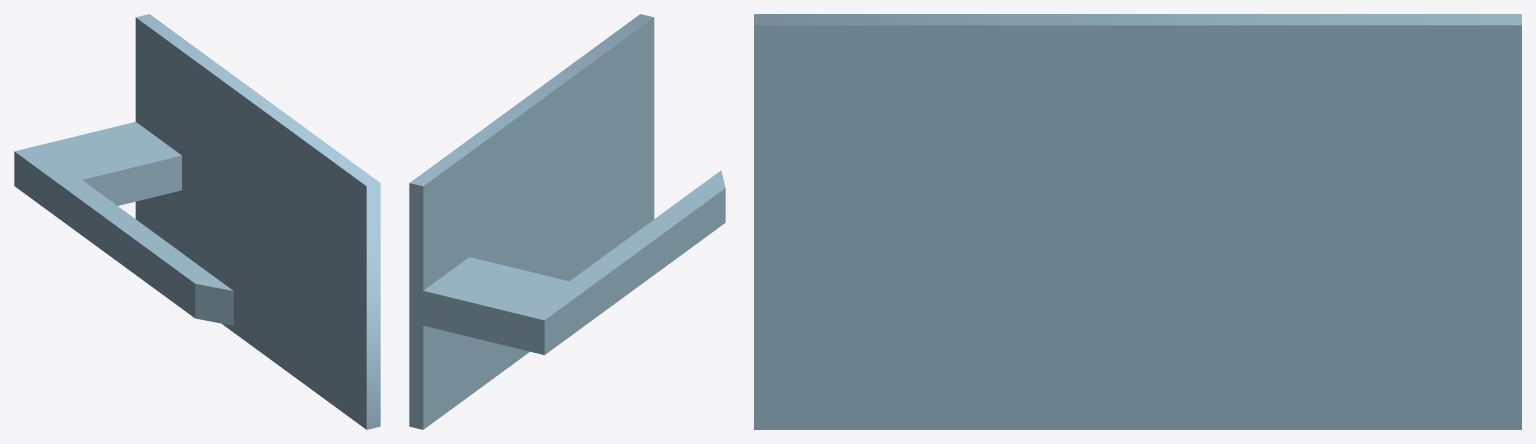
File: toilet_paper_holder.fbx
The picture shows the model from 3 angles, left to right: view 1: azimuth 30°, elevation 25°; view 2: azimuth 150°, elevation 25°; view 3: azimuth 270°, elevation 25°; orthographic projection. The views are drawn at different scales.
Visible parts, largest first — view 1: tolte_paper_holder; view 2: tolte_paper_holder; view 3: tolte_paper_holder.
Part boxes in pixels (x1,y1,x2,y2): tolte_paper_holder: (14, 14, 380, 429); tolte_paper_holder: (409, 14, 725, 429); tolte_paper_holder: (754, 14, 1521, 429).
Bounding box in the file's own units: 9.8 × 16.86 × 28.99.
